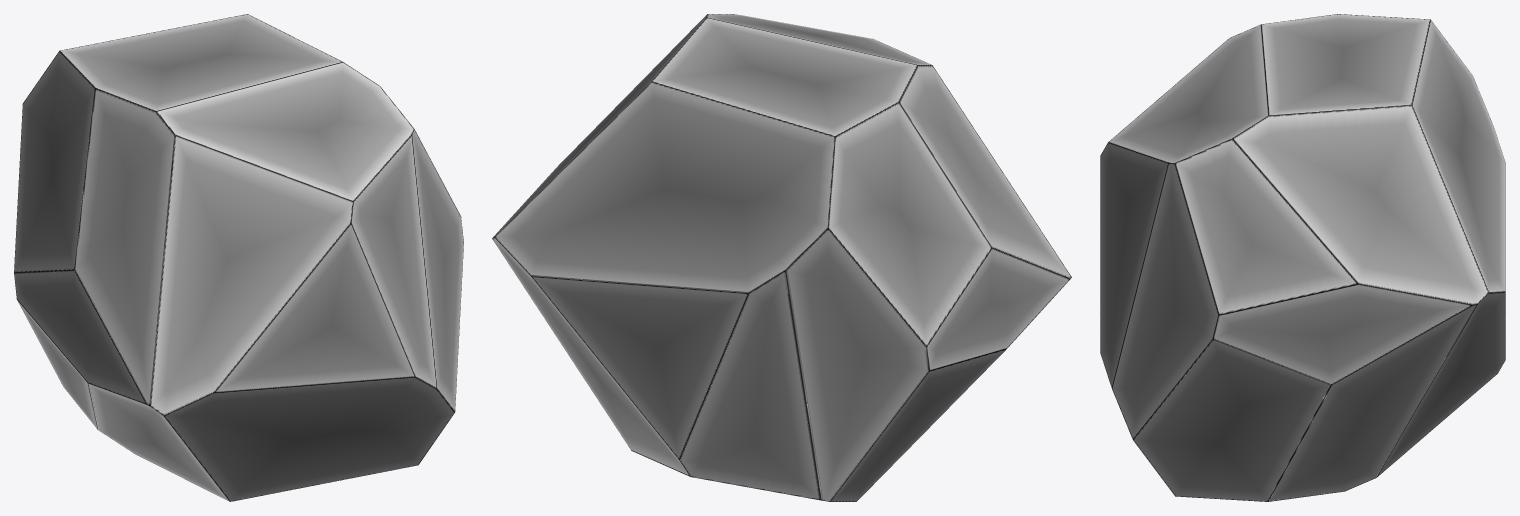
File: Rock1.fbx
3 views of the same model, side by side, from view 1: azimuth 30°, elevation 25°; view 2: azimuth 150°, elevation 25°; view 3: azimuth 270°, elevation 25° (orthographic). The views are drawn at different scales.
Parts seen in each view (by area): view 1: Cube; view 2: Cube; view 3: Cube.
Part boxes in pixels (box(x1,y1,x2,y2)): Cube: box(14, 14, 463, 501); Cube: box(492, 14, 1071, 501); Cube: box(1100, 14, 1505, 501).
Size of the model in its own units: 200 by 200 by 200.
